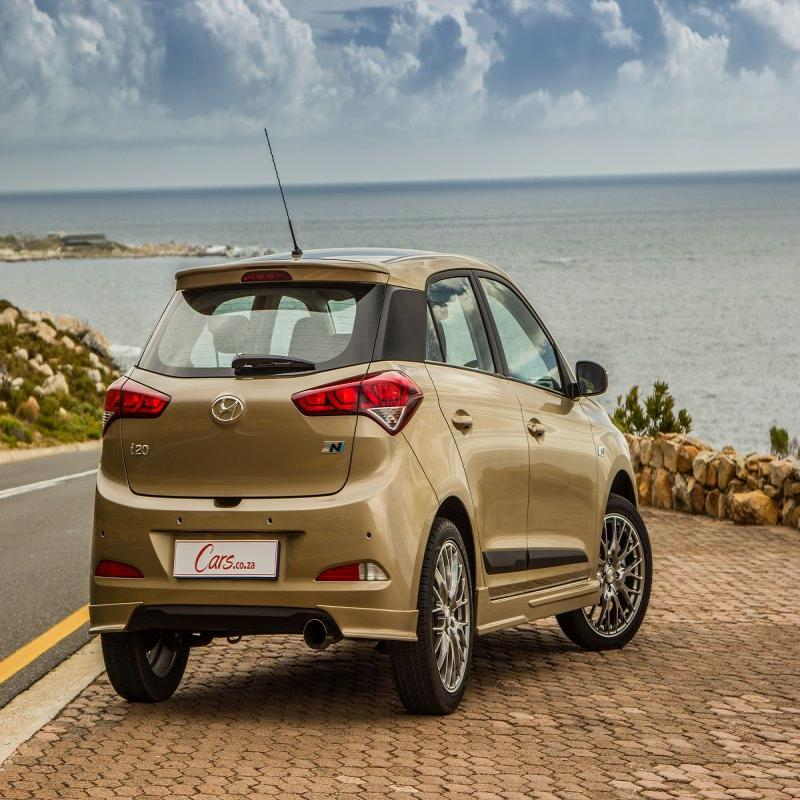car: (80, 197, 658, 713)
